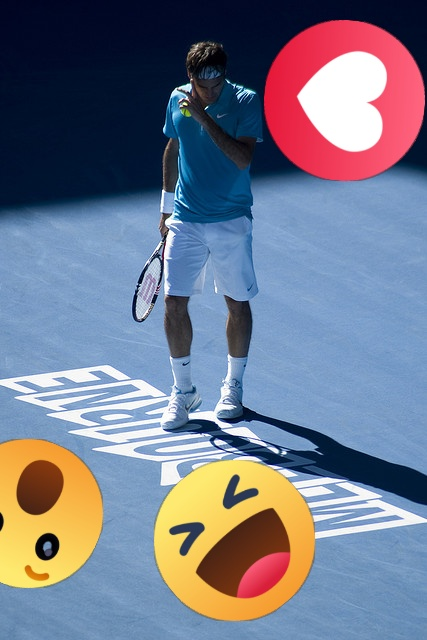haha: (154, 460, 315, 621)
love: (264, 20, 425, 181)
wow: (0, 439, 103, 588)
